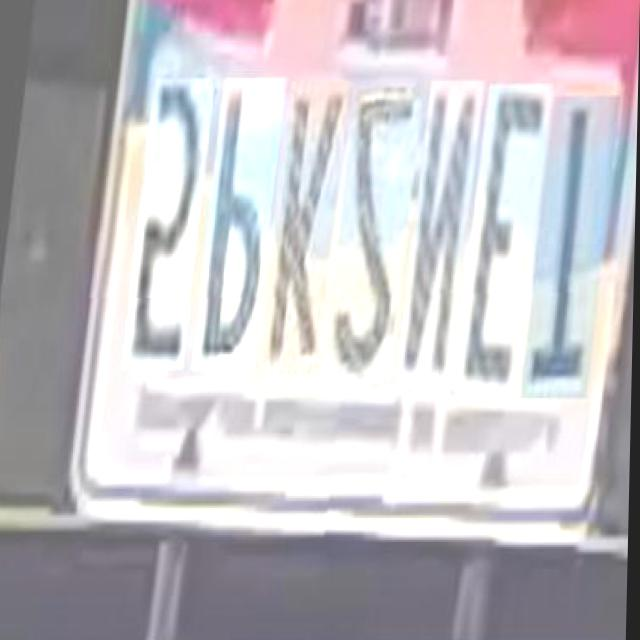2: (319, 87, 413, 380)
5: (119, 76, 205, 368)
e: (450, 85, 544, 392)
k: (256, 80, 340, 375)
n: (393, 80, 474, 388)
p: (187, 76, 277, 369)
t: (516, 96, 611, 400)
